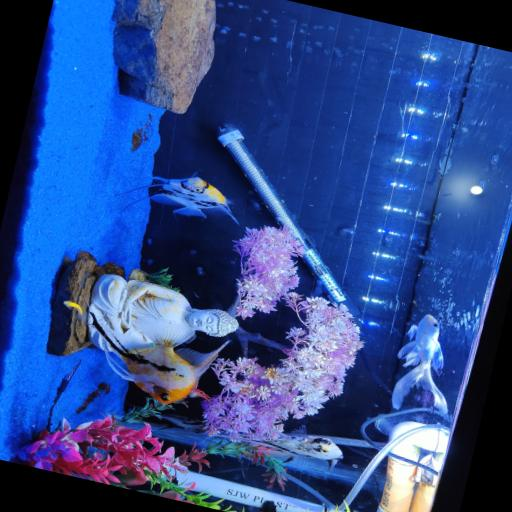Fish: (105, 324, 228, 404), (130, 173, 237, 224), (391, 315, 446, 413), (237, 435, 341, 470), (62, 301, 82, 317)
